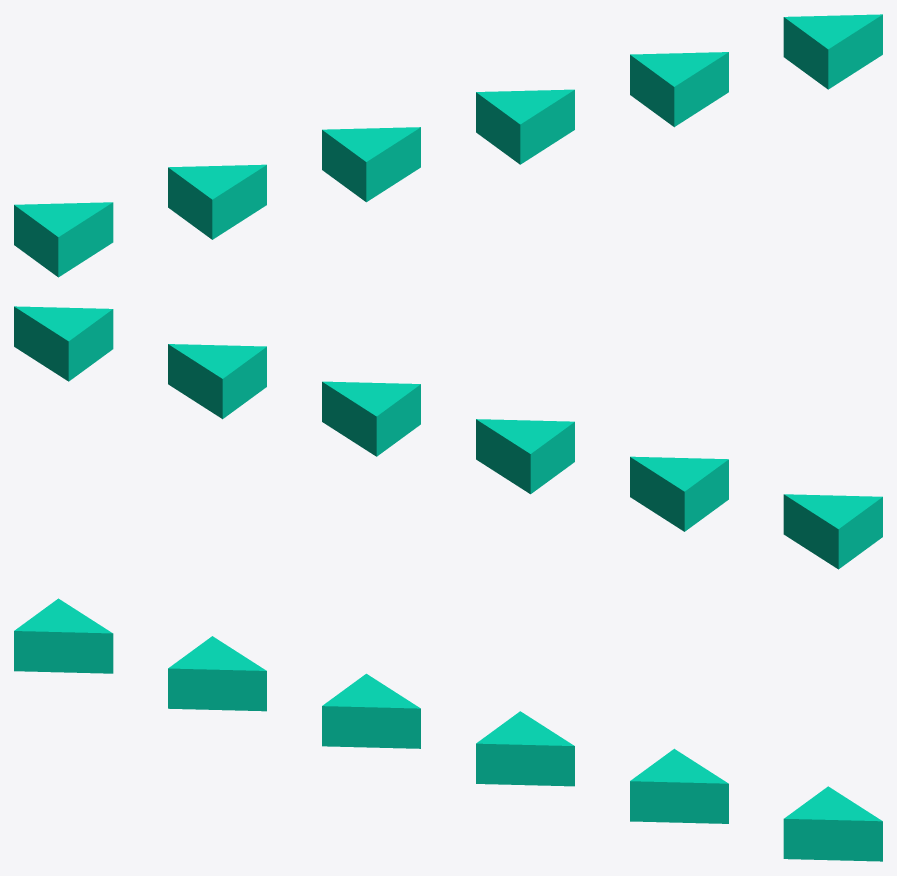
Rendered from arrow_3.fbx.
The picture shows the model from 3 angles, top to bottom: view 1: azimuth 30°, elevation 25°; view 2: azimuth 150°, elevation 25°; view 3: azimuth 330°, elevation 25°; orthographic projection.
Visible parts, largest first — view 1: Layer 04; view 2: Layer 04; view 3: Layer 04.
Part boxes in pixels (left/top/right/bottom): Layer 04: left=14, top=14, right=882, bottom=277; Layer 04: left=14, top=306, right=882, bottom=569; Layer 04: left=14, top=598, right=882, bottom=861.
Bounding box in the file's own units: 33 × 1.5 × 3.
